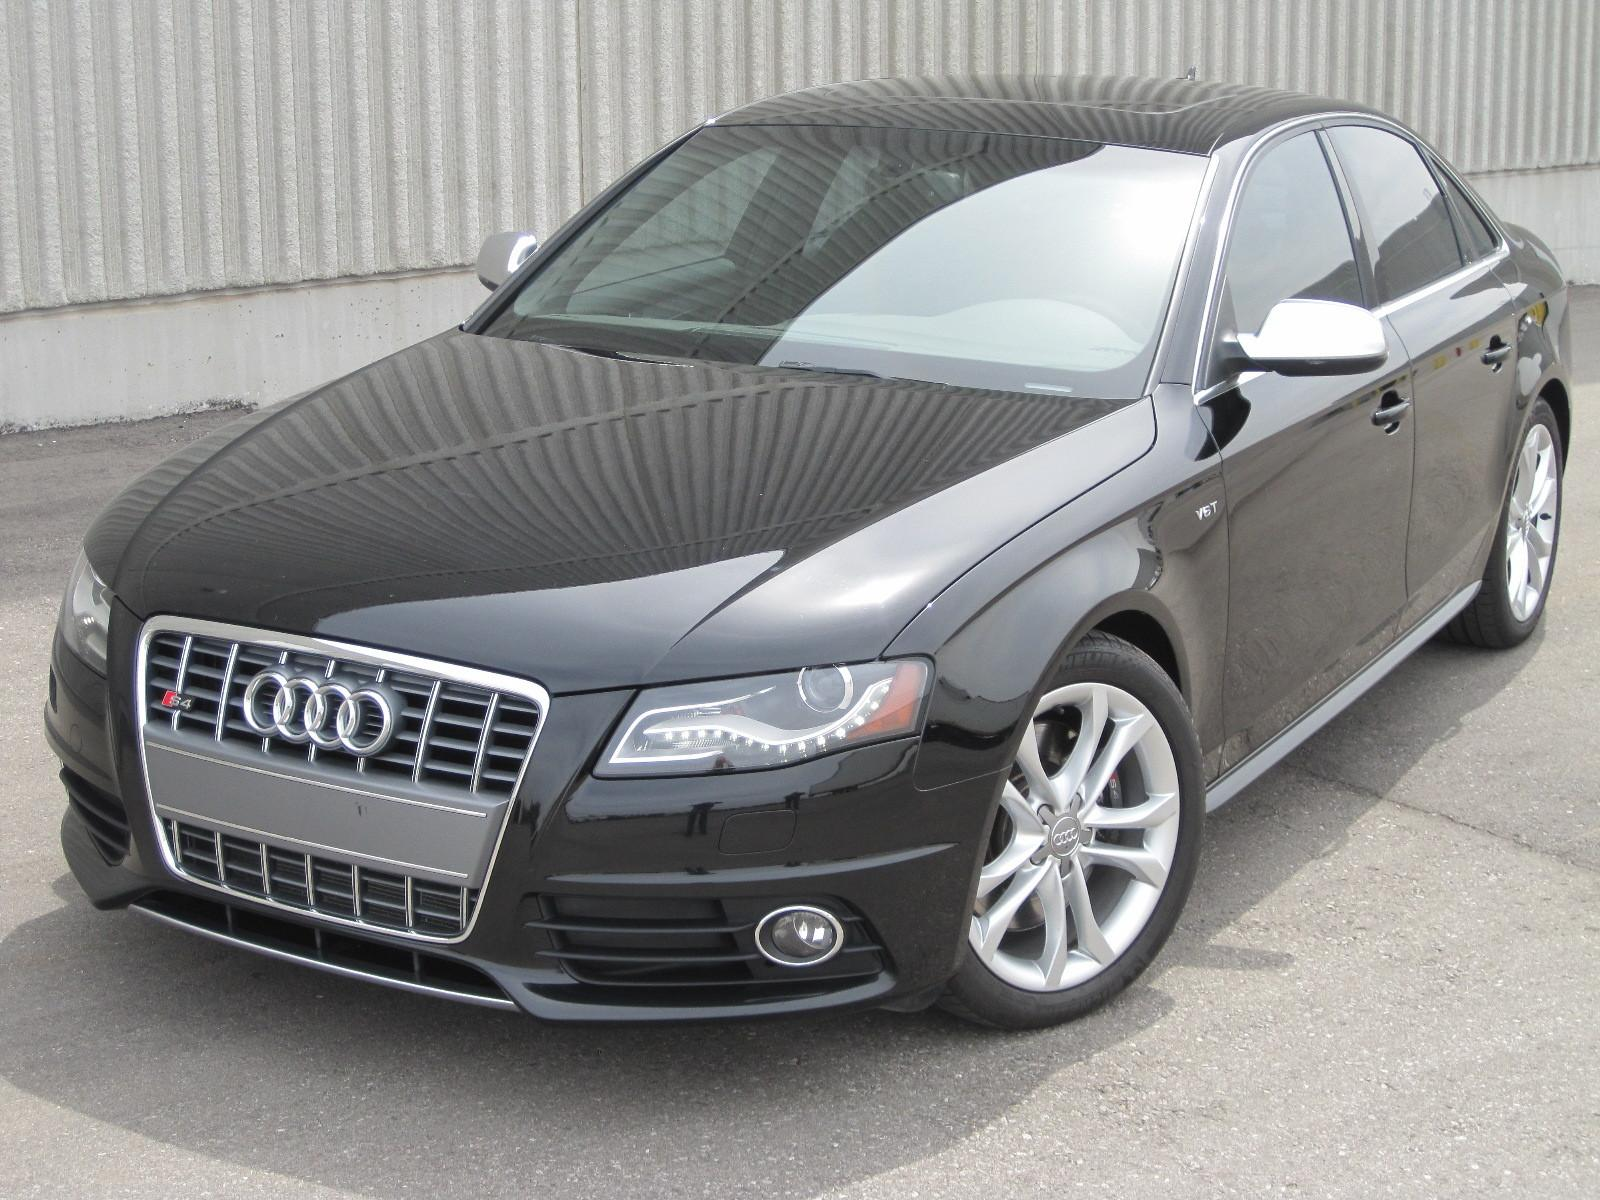Audi: (226, 640, 427, 800)
